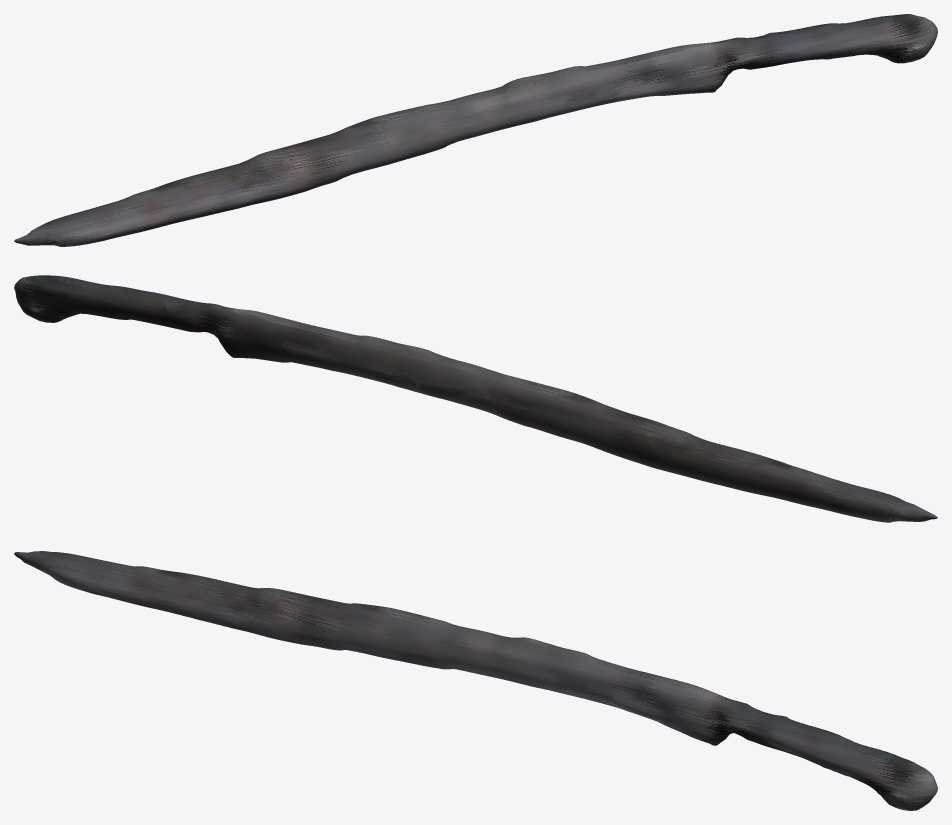
File: kfl-2268.glb
3 renders of one model, top to bottom at view 1: azimuth 30°, elevation 25°; view 2: azimuth 150°, elevation 25°; view 3: azimuth 330°, elevation 25°, orthographic. The views are drawn at different scales.
Parts seen in each view (by area): view 1: geometry_0; view 2: geometry_0; view 3: geometry_0.
Boxes of the visible parts, <box> form: geometry_0: <box>14,14,937,246</box>; geometry_0: <box>14,275,937,522</box>; geometry_0: <box>14,551,937,810</box>.
Size of the model in its own units: 0.9874 by 0.0707 by 0.0535.
1 material, 1 textured.
